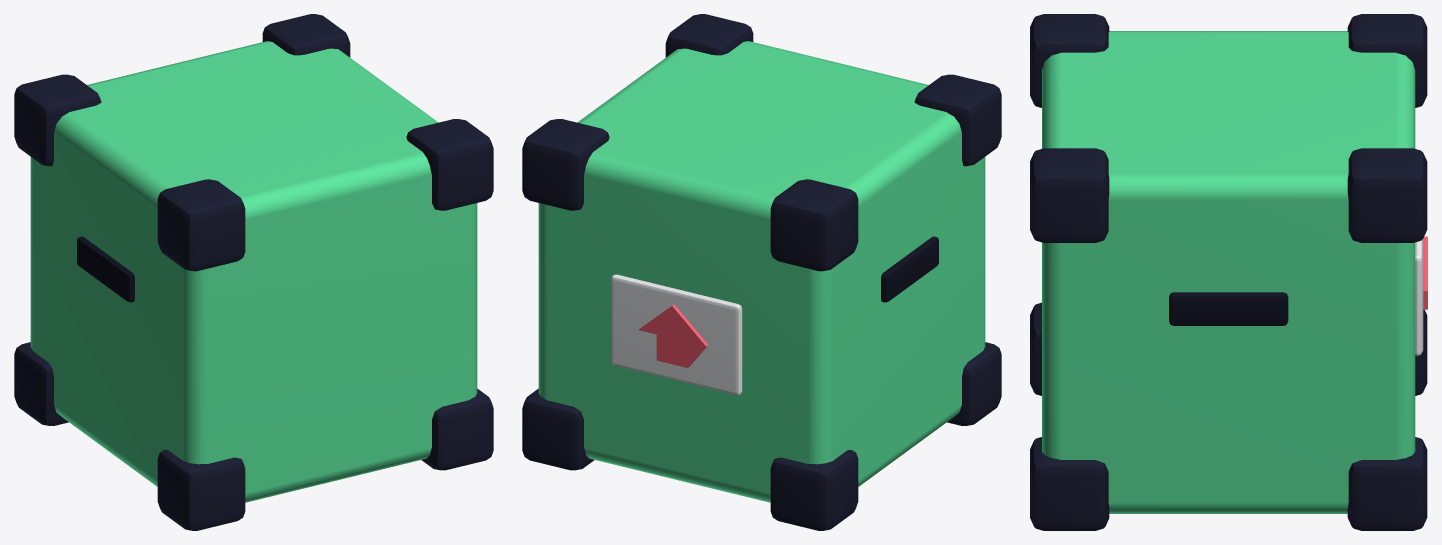
File: crate_large.glb
3 views of the same model, side by side, from view 1: azimuth 30°, elevation 25°; view 2: azimuth 150°, elevation 25°; view 3: azimuth 270°, elevation 25° (orthographic). The views are drawn at different scales.
Visible parts, largest first — view 1: Body; view 2: Body; view 3: Body.
Part boxes in pixels (x1,y1,x2,y2): Body: (14,14,493,530); Body: (522,14,1001,530); Body: (1030,14,1427,530).
Bounding box in the file's own units: 1 × 1 × 1.
